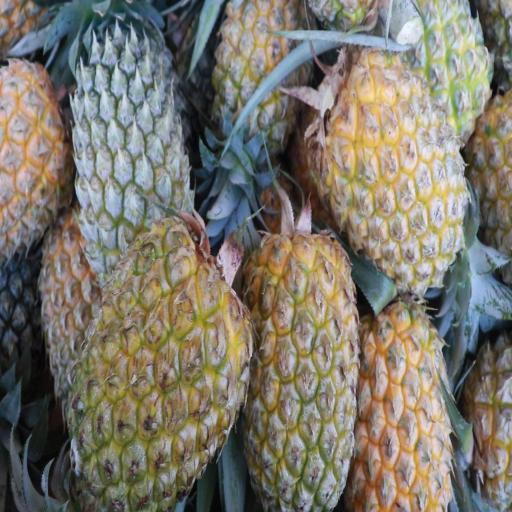------------------------------: (42, 210, 115, 399), (212, 0, 304, 149)
Pineapple - v8 v1: (73, 217, 244, 512), (242, 242, 357, 510), (330, 59, 462, 274), (356, 294, 447, 508), (0, 52, 70, 231)
